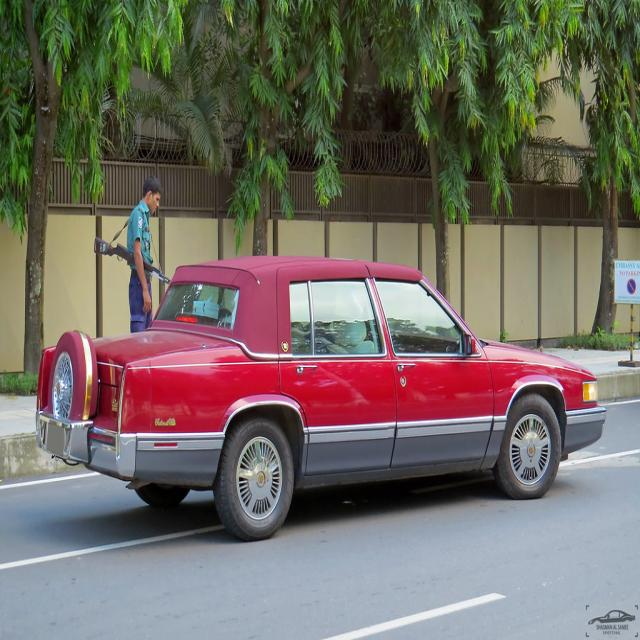red: (36, 237, 611, 554)
